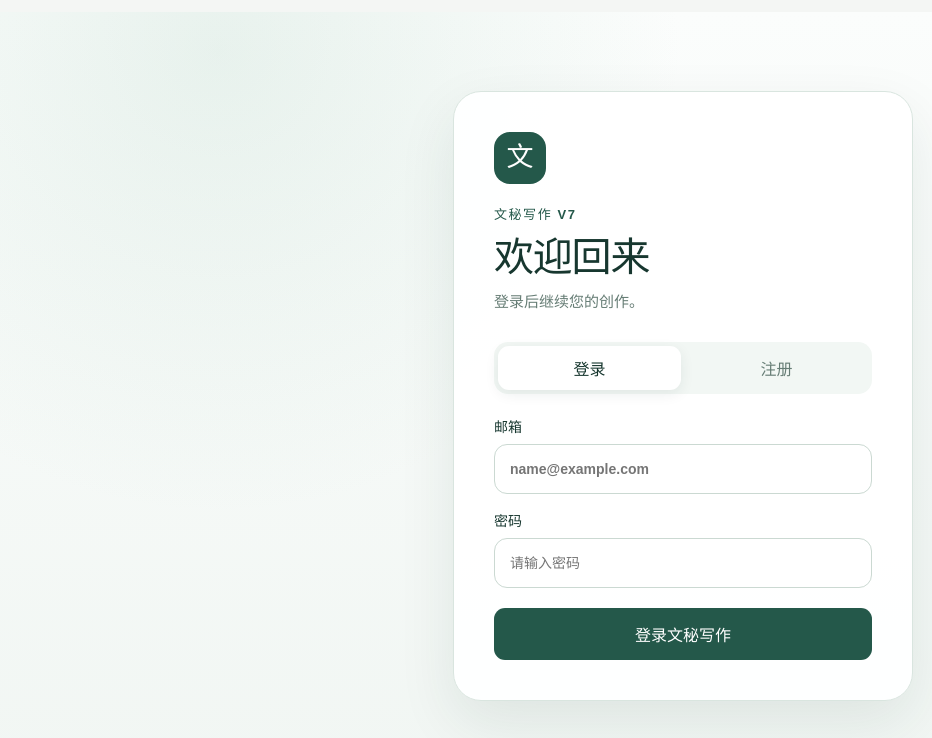
Test: V7 作者端账号门禁与个人中心 › 可在同一张 V7 页面注册，昵称与密码确认通过后进入创作
Click the tab "注册". click: point(776, 368)
box: [685,346,868,390]
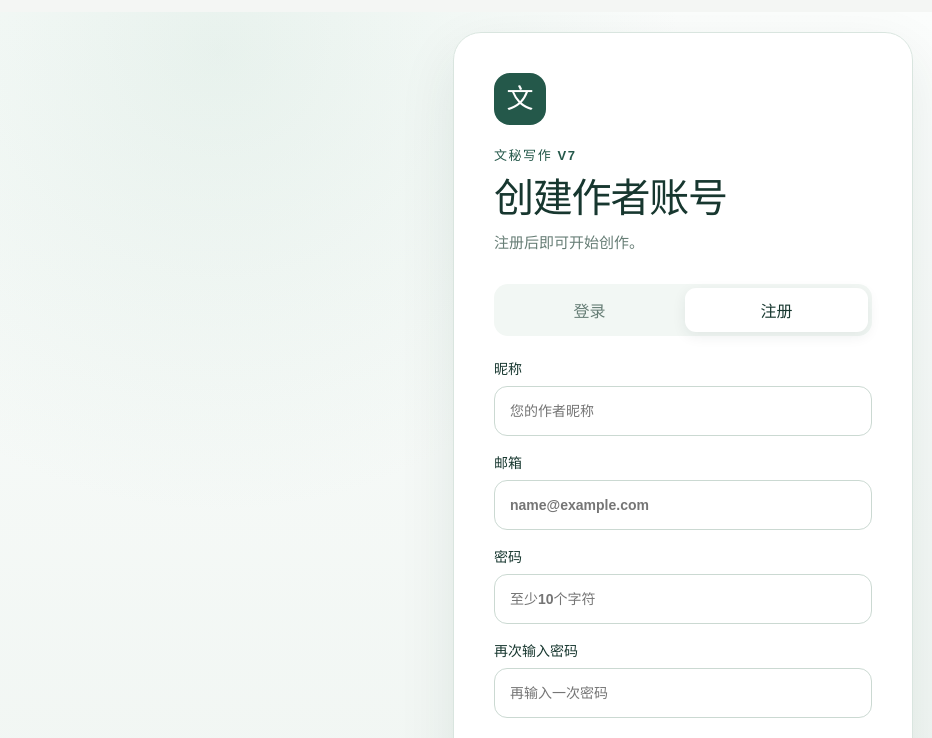
Type "林老师" into the field labelled "昵称". click: point(683, 410)
box: [494,386,872,436]
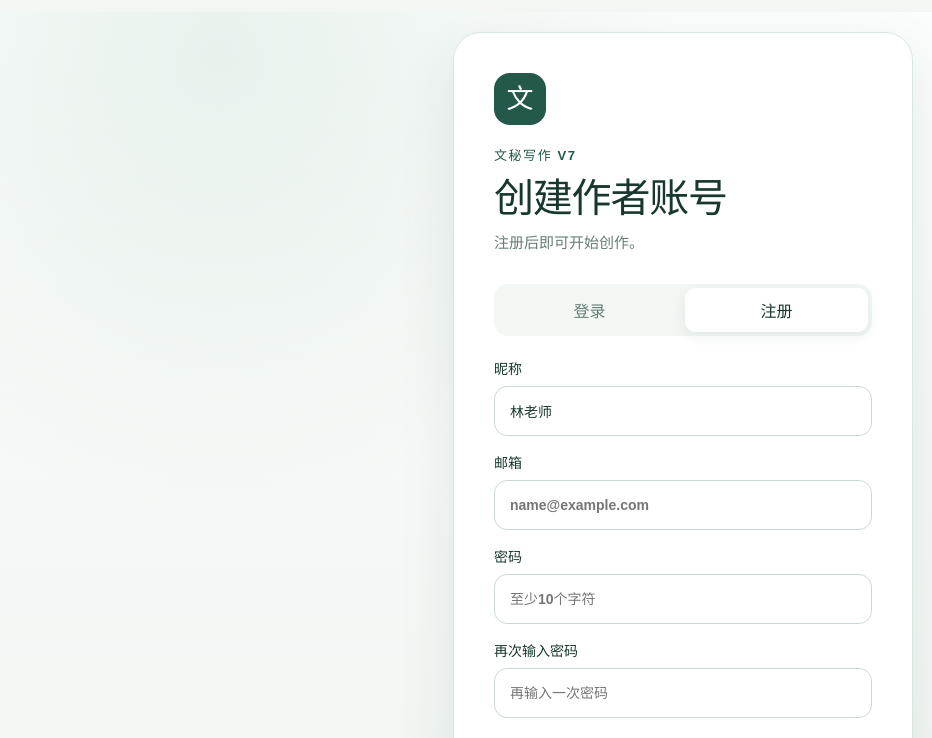
Type "writer@example.com" into the field labelled "邮箱". click: point(683, 504)
box: [494,480,872,530]
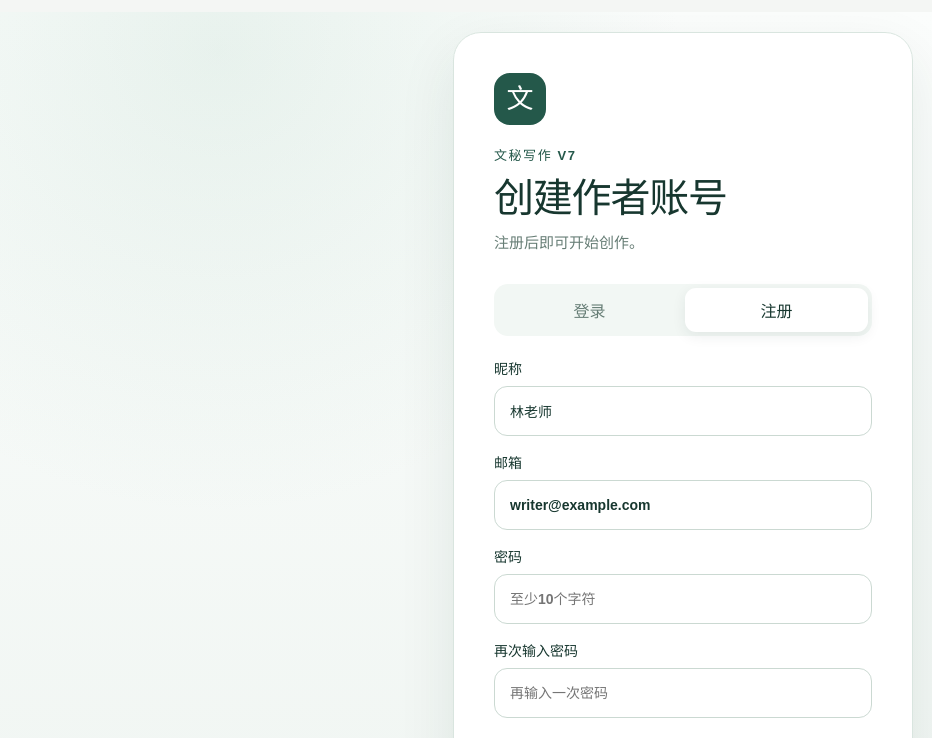
Type "strong-pass-123" into the password field labelled "密码". click: point(683, 598)
box: [494,574,872,624]
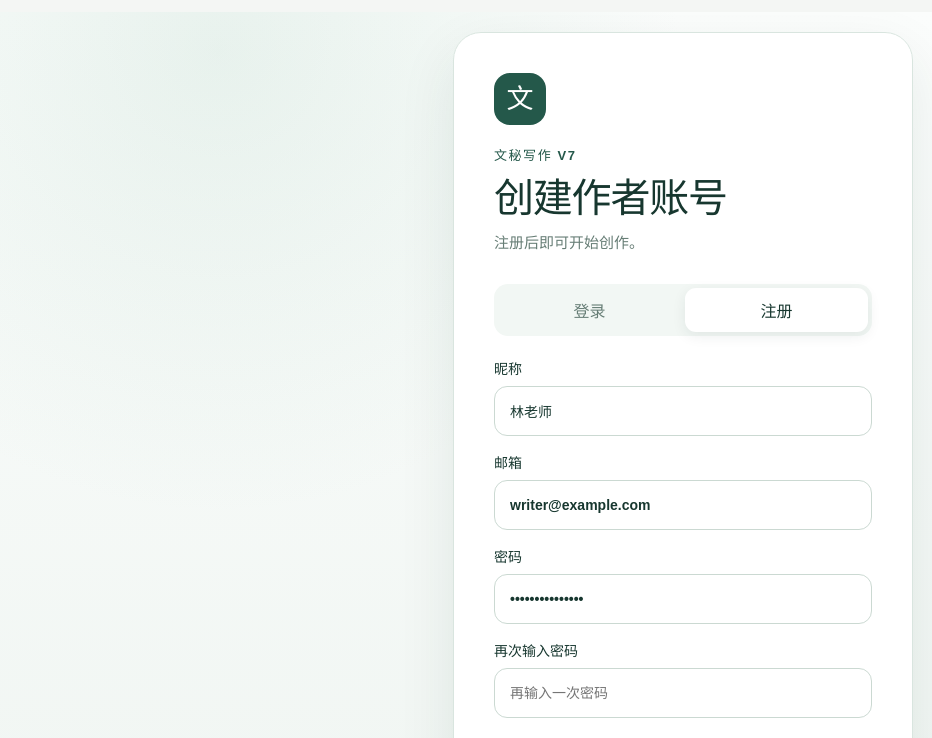
Type "strong-pass-123" into the password field labelled "再次输入密码". click: point(683, 692)
box: [494,668,872,718]
(page scrolled)
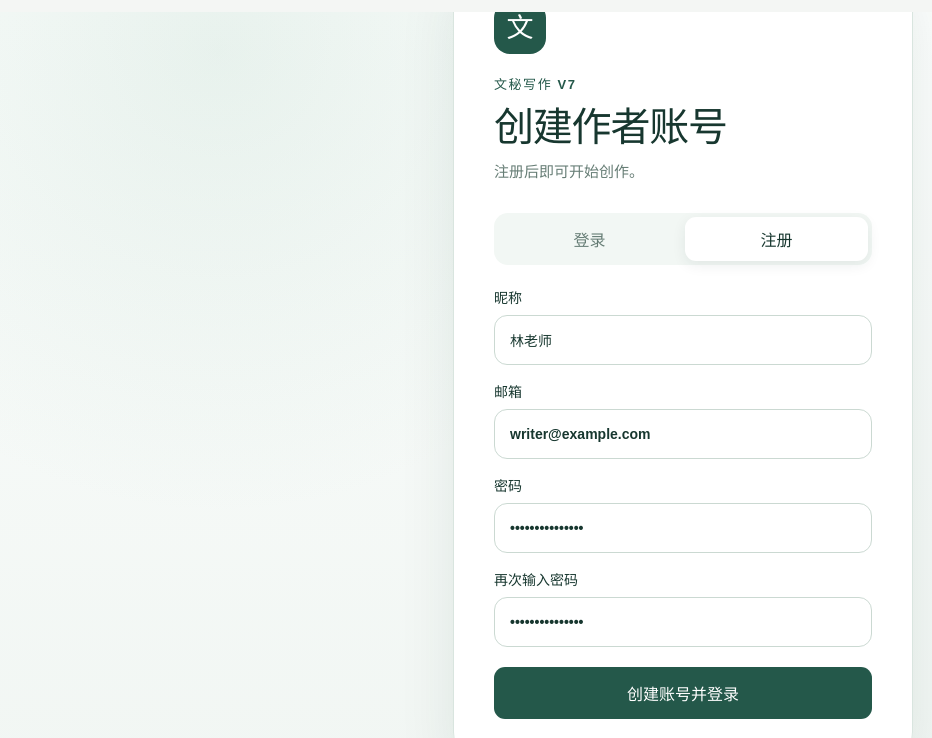
Click the button "创建账号并登录". click: point(683, 692)
box: [494,666,872,718]
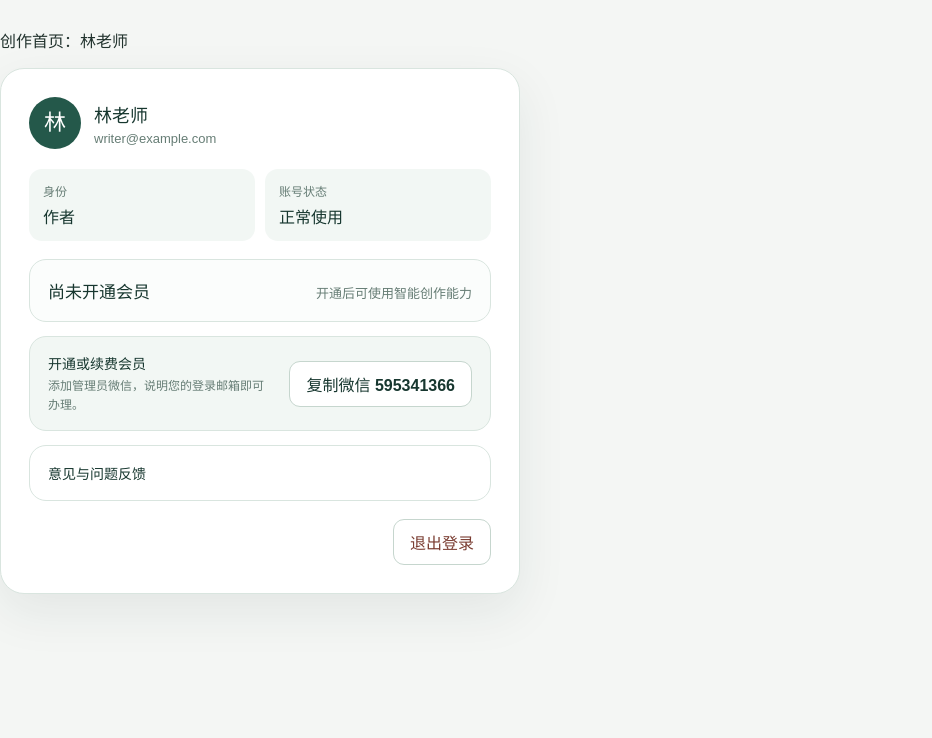
Check: the text "创作首页：林老师" is shown, box [0,30,128,52]
Check: the text "尚未开通会员" is shown, box [48,278,150,303]
